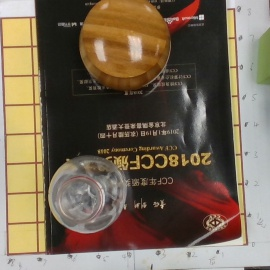bottle: (49, 156, 132, 232)
chess: (80, 1, 172, 89)
